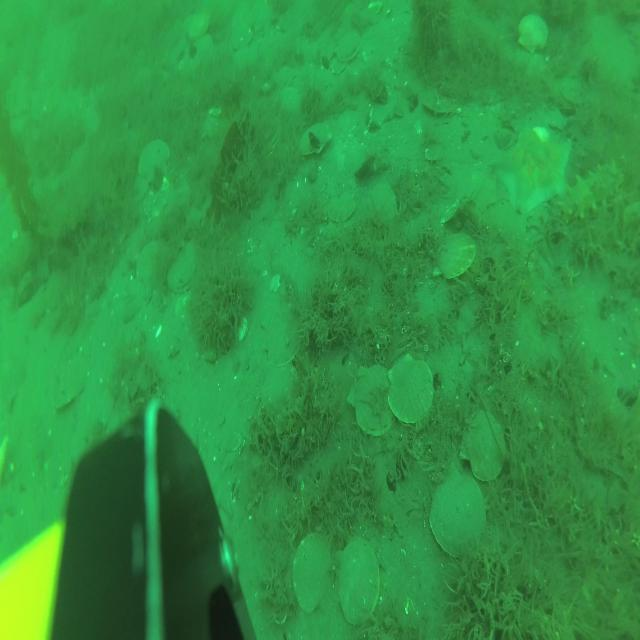holothurian: (563, 160, 629, 233)
scallop: (430, 474, 490, 560), (336, 529, 382, 630), (346, 364, 398, 442), (459, 404, 509, 485), (388, 350, 434, 428), (294, 534, 330, 617), (438, 230, 476, 281), (136, 240, 170, 288), (137, 140, 174, 183), (167, 246, 203, 290), (517, 13, 551, 59), (369, 181, 399, 232), (300, 119, 334, 157), (422, 91, 458, 125), (54, 380, 87, 415), (326, 191, 358, 226), (335, 34, 360, 67), (185, 10, 209, 44), (229, 19, 254, 51)
starfish: (496, 118, 576, 224)
